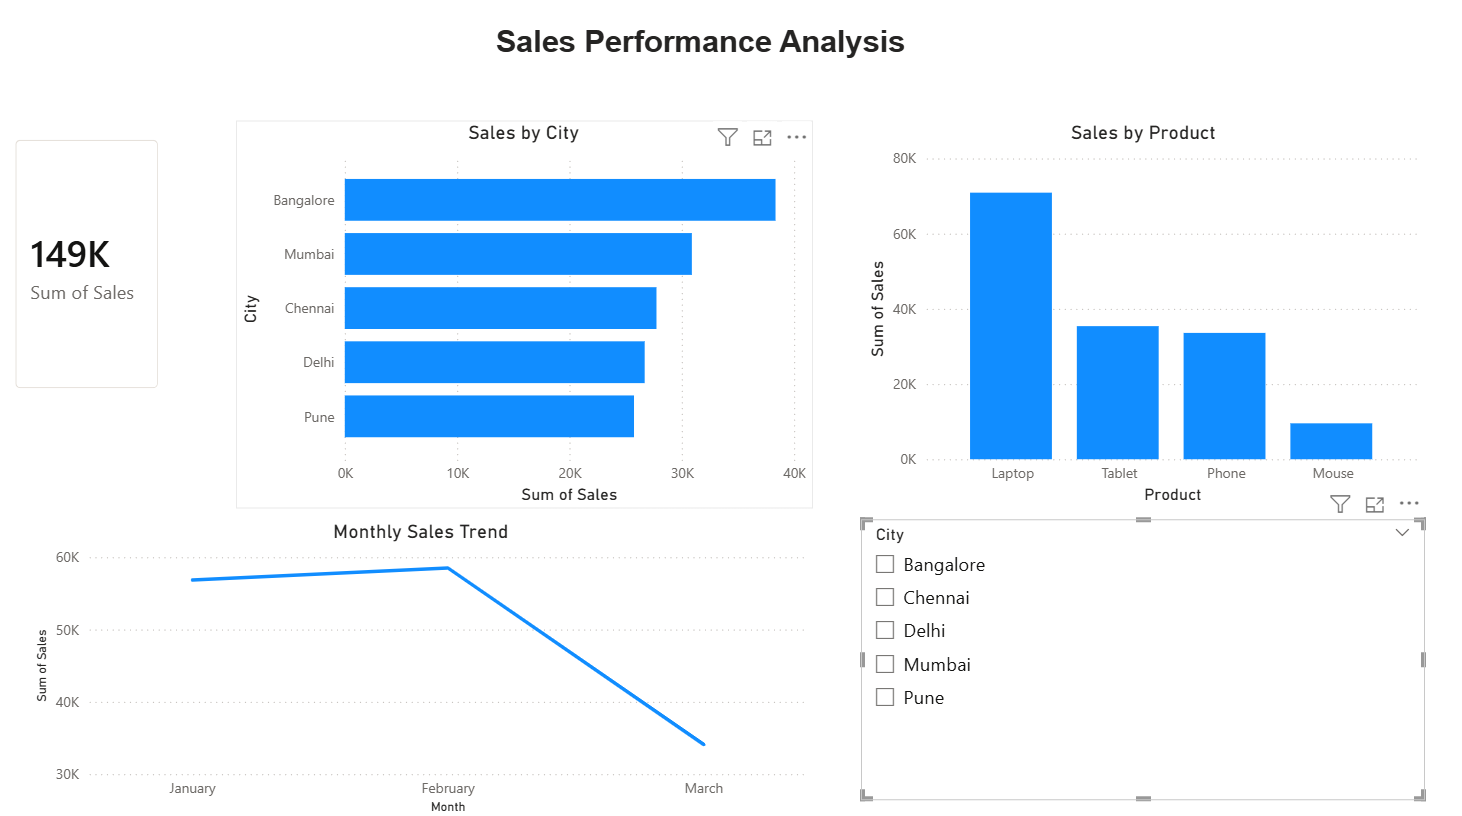

The page's visual inventory and layout, read from the dashboard file:
{"tool":"powerbi","page":{"name":"Page 1","canvas":[1280,720],"ordinal":0},"visuals":[{"type":"cardVisual","fields":{"Data":["Sum(Sales.Sales)"]},"box":[0,110.5,158.1,250],"z":0},{"type":"clusteredBarChart","title":"Sales by City","fields":{"Category":["Sales.City"],"Y":["Sum(Sales.Sales)"]},"box":[209.2,110.4,500.5,338.6],"z":1000},{"type":"columnChart","title":"Sales by Product","fields":{"Category":["Sales.Product"],"Y":["Sum(Sales.Sales)"]},"box":[752.8,110.4,488.9,338.6],"z":2000},{"type":"lineChart","title":"Monthly Sales Trend","fields":{"Category":["Sales.Date.Variation.Date Hierarchy.Month"],"Y":["Sum(Sales.Sales)"]},"box":[29.1,458.1,680.2,261.6],"z":3000},{"type":"slicer","fields":{"Values":["Sales.City"]},"box":[752.3,458.1,489.5,244.2],"z":4000},{"type":"textbox","box":[369.8,23.3,486,43],"z":5000}]}

Visuals, with their boxes in screenshot pixels (x1, y1, x2, y2), scaled from the page's 1280x720 canvas onto the 1462x816 screenshot:
cardVisual - Sum(Sales.Sales): (x1=0, y1=125, x2=181, y2=409)
"Sales by City" clusteredBarChart: (x1=239, y1=125, x2=811, y2=509)
"Sales by Product" columnChart: (x1=860, y1=125, x2=1418, y2=509)
"Monthly Sales Trend" lineChart: (x1=33, y1=519, x2=810, y2=815)
slicer - Sales.City: (x1=859, y1=519, x2=1418, y2=796)
textbox: (x1=422, y1=26, x2=977, y2=75)
